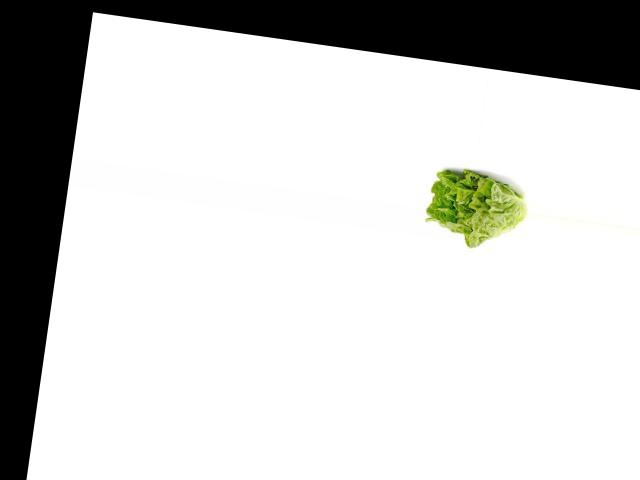lettuce: (422, 159, 532, 253)
